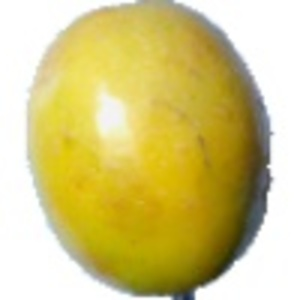maracujá: (23, 1, 276, 300)
